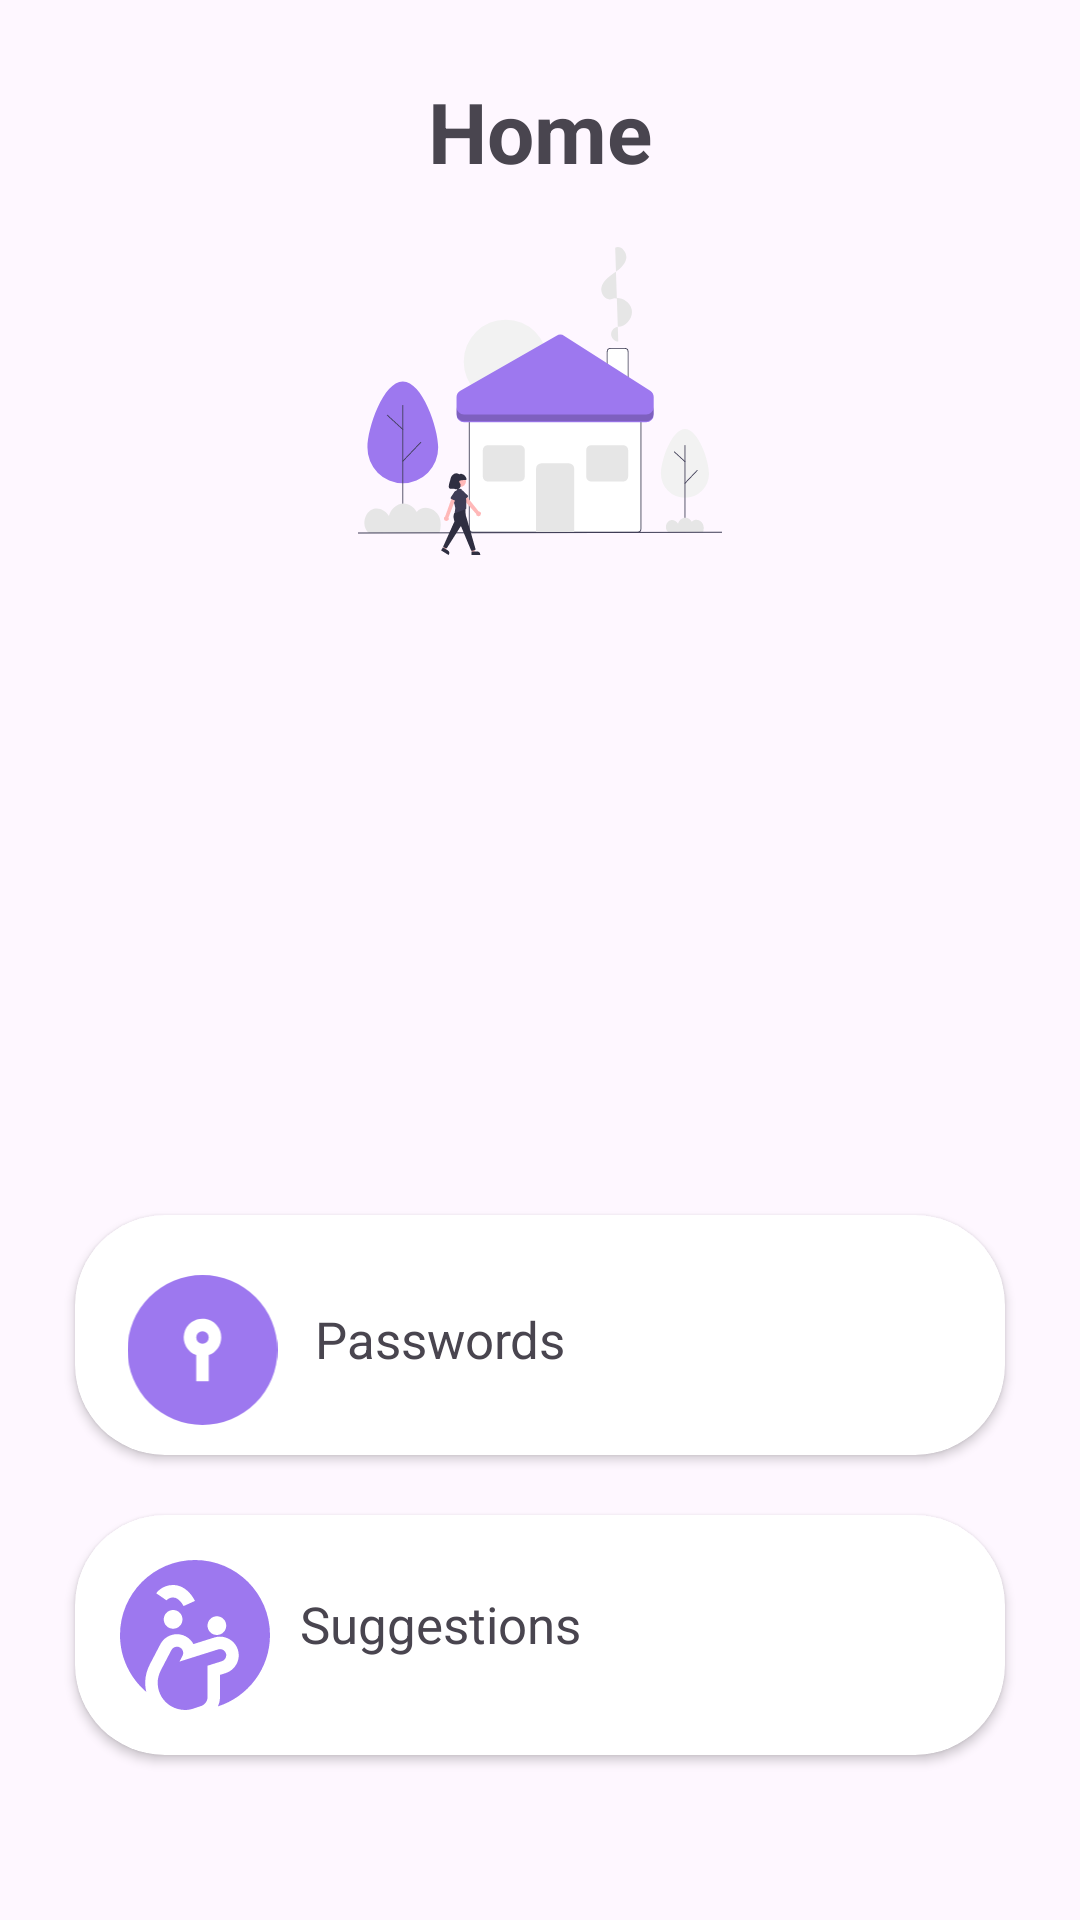

Where icons sit on this 1080 x 1920 app screen, as (x1, y1, x2, y2):
lockpurp: (128, 1275, 278, 1425)
